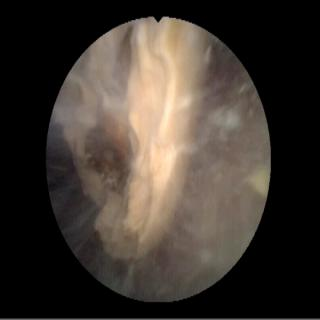stone: (57, 19, 207, 261)
